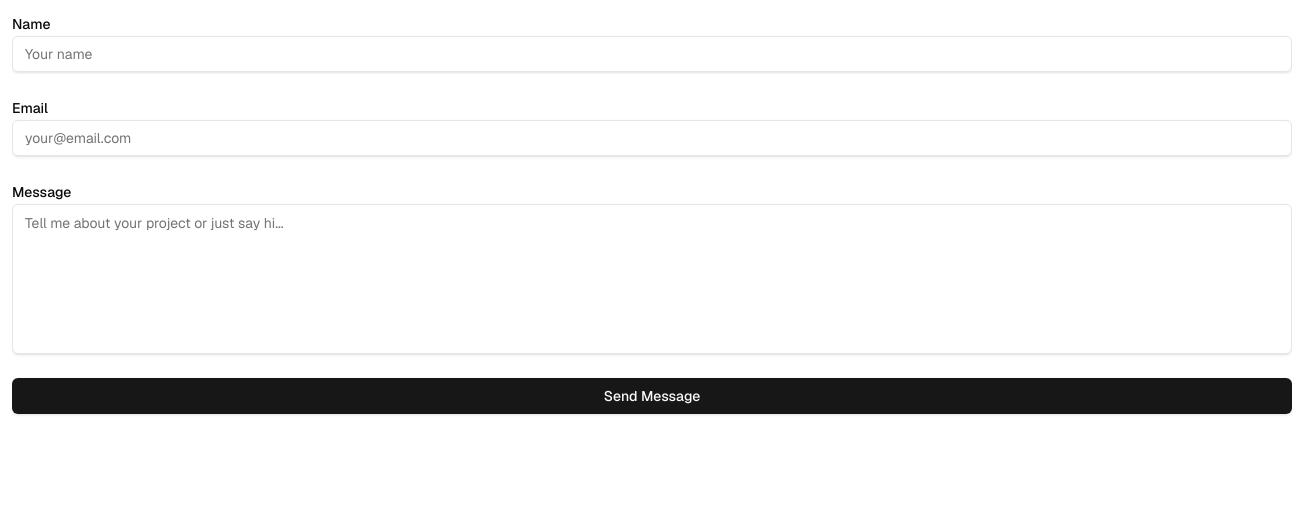
Test: ContactForm › should validate message length
Type "short" into the text box labelled "Message" at {"x": 652, "y": 279}, box [12,204,1292,354]
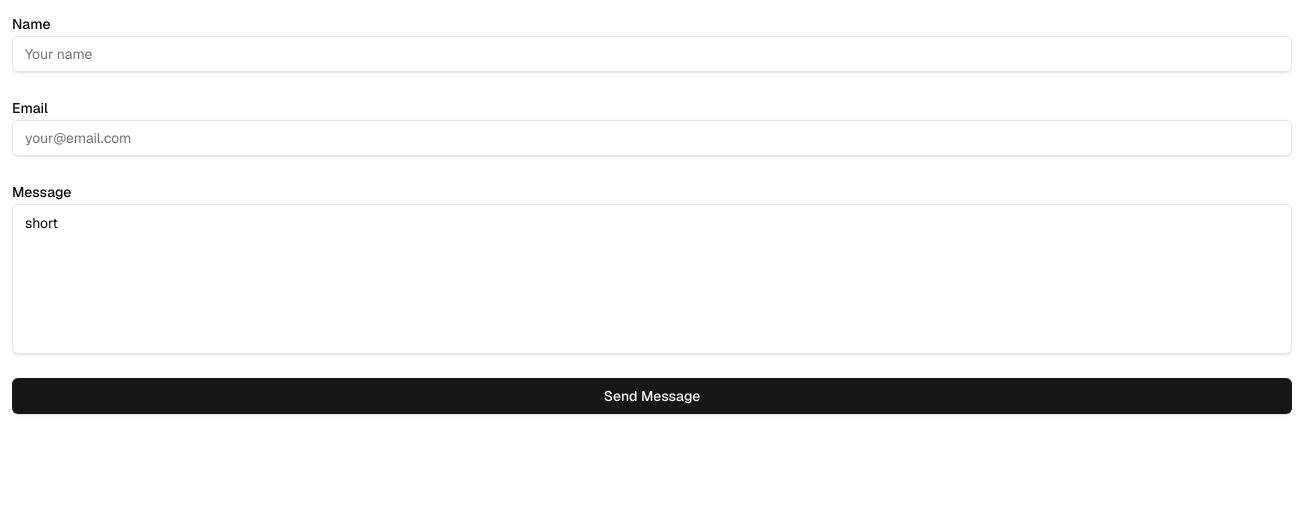
Click the button "Send Message" at {"x": 652, "y": 396}, box [12,378,1292,414]
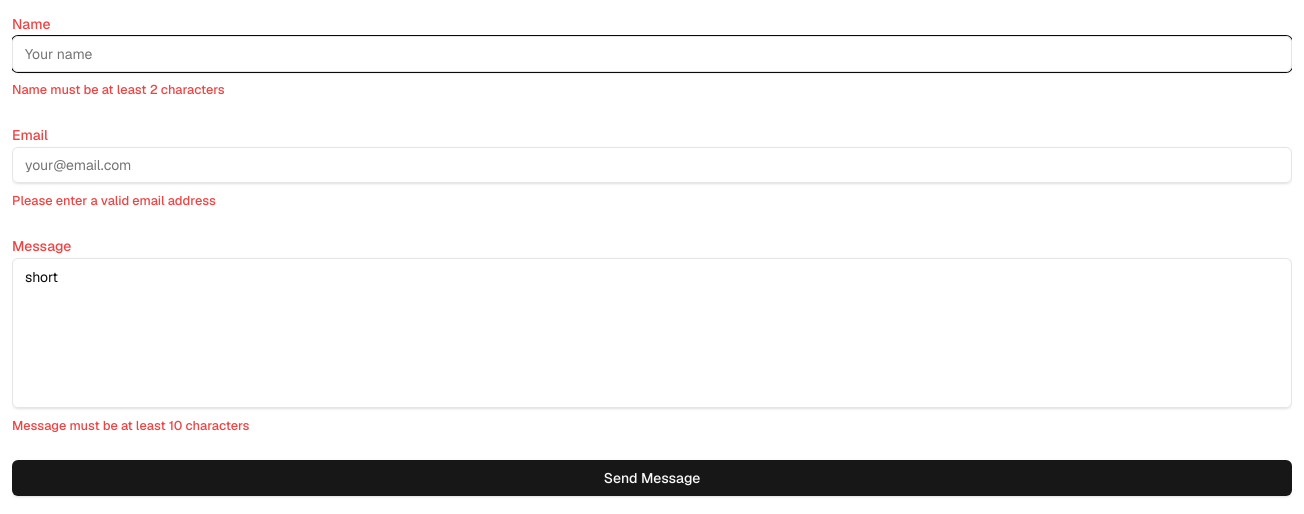
Check: the text "Message must be at least 10 characters" is shown, box [12,417,250,434]
